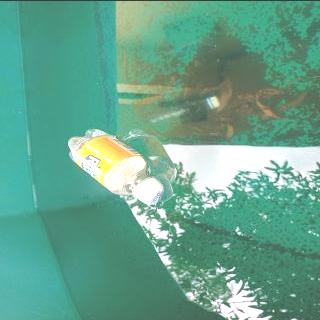bottle: (65, 127, 164, 205)
